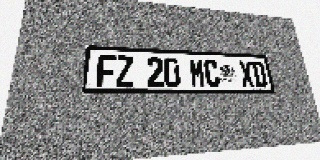0: (163, 57, 180, 87)
2: (147, 57, 164, 87)
C: (203, 59, 221, 87)
D: (251, 61, 268, 87)
F: (96, 55, 116, 87)
M: (189, 58, 206, 87)
X: (238, 61, 255, 87)
Z: (116, 55, 134, 87)
